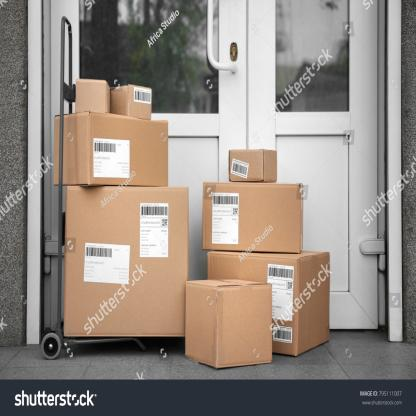box: (63, 186, 190, 338), (202, 181, 302, 254), (89, 110, 168, 186), (216, 284, 273, 370), (296, 251, 330, 358), (229, 149, 263, 182), (76, 79, 108, 112), (128, 86, 152, 121)
